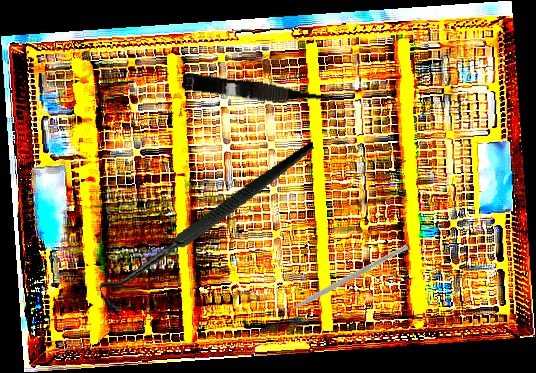Chopper: (267, 200, 410, 357)
Hook Surgical: (83, 140, 334, 319)
Micro Scissor: (181, 72, 345, 113)
